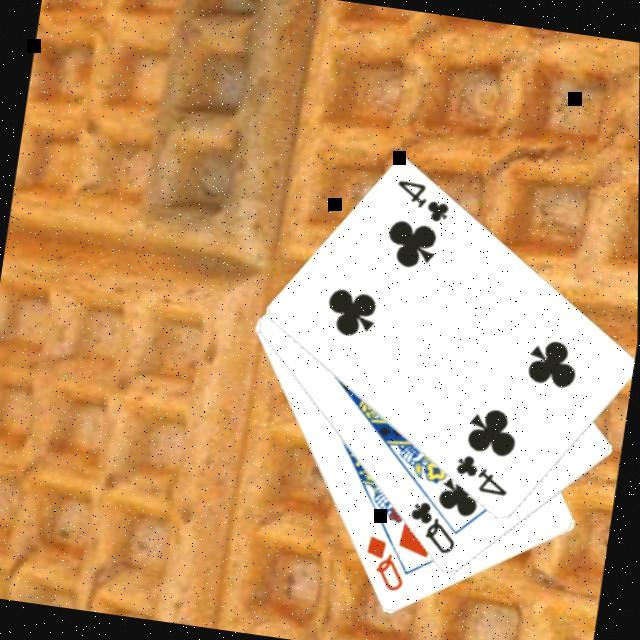4C: (388, 174, 456, 226), (449, 448, 515, 498)
QC: (402, 494, 463, 556)
QD: (357, 530, 413, 595)
